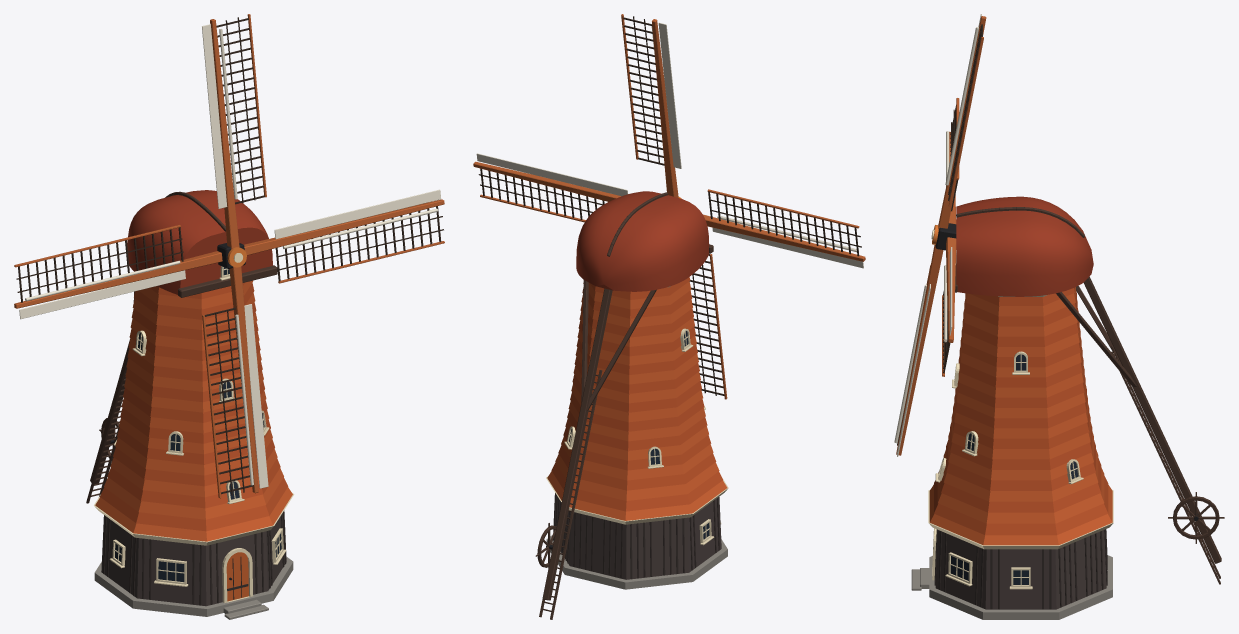
The model's file is dutch-windmill.glb.
3 renders of one model, left to right at view 1: azimuth 30°, elevation 25°; view 2: azimuth 150°, elevation 25°; view 3: azimuth 270°, elevation 25°, orthographic. The views are drawn at different scales.
Visible parts, largest first — view 1: Windmill_Body, Windmill_Sails, Windmill_Base, Windmill_Cap, Windmill_Tail; view 2: Windmill_Body, Windmill_Sails, Windmill_Base, Windmill_Cap, Windmill_Tail; view 3: Windmill_Body, Windmill_Base, Windmill_Cap, Windmill_Sails, Windmill_Tail.
Part boxes in pixels (x1,y1,x2,y2): Windmill_Body: [95, 280, 292, 541]; Windmill_Sails: [14, 14, 444, 498]; Windmill_Base: [94, 493, 294, 619]; Windmill_Cap: [127, 190, 277, 297]; Windmill_Tail: [86, 291, 134, 503]; Windmill_Body: [547, 277, 727, 520]; Windmill_Sails: [473, 14, 865, 399]; Windmill_Base: [546, 476, 728, 589]; Windmill_Cap: [576, 191, 713, 291]; Windmill_Tail: [535, 280, 656, 619]; Windmill_Body: [929, 287, 1112, 545]; Windmill_Base: [911, 490, 1113, 619]; Windmill_Cap: [955, 196, 1093, 296]; Windmill_Sails: [894, 14, 986, 456]; Windmill_Tail: [1056, 276, 1224, 584].
Bounding box in the file's own units: 21.6 × 27.45 × 14.55.
